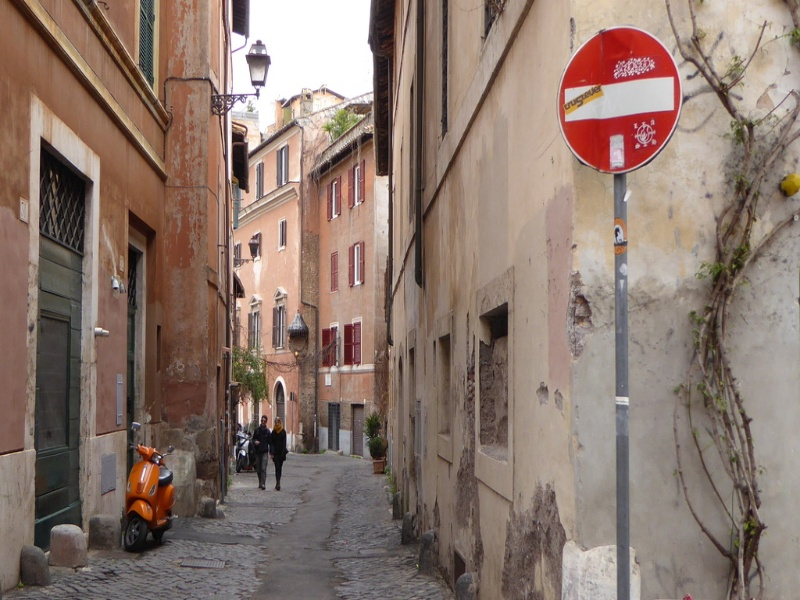no_entry: (554, 21, 681, 170)
